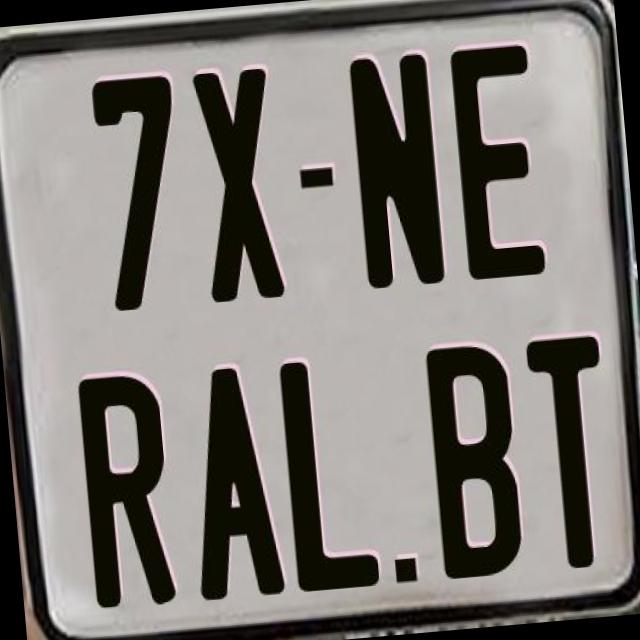7: (86, 74, 192, 314)
A: (177, 363, 289, 599)
B: (420, 338, 520, 578)
E: (448, 42, 552, 288)
L: (278, 352, 386, 588)
N: (348, 52, 452, 295)
R: (75, 372, 174, 618)
T: (521, 332, 613, 572)
X: (188, 66, 288, 309)
